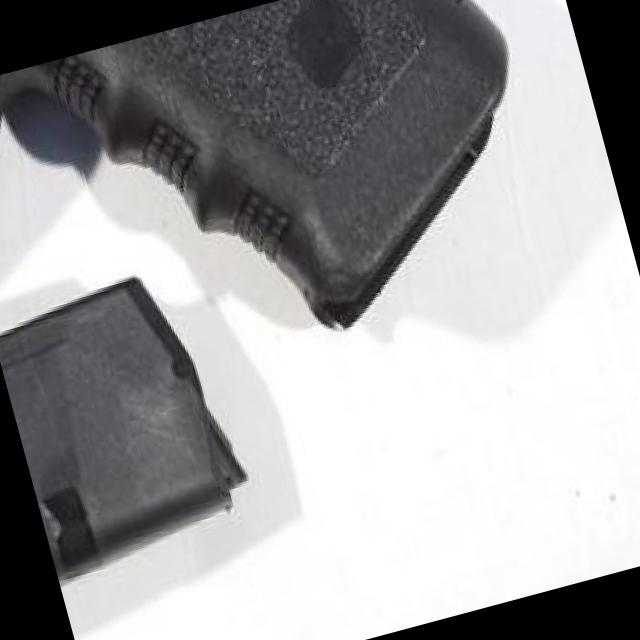Guns: (0, 0, 605, 437)
